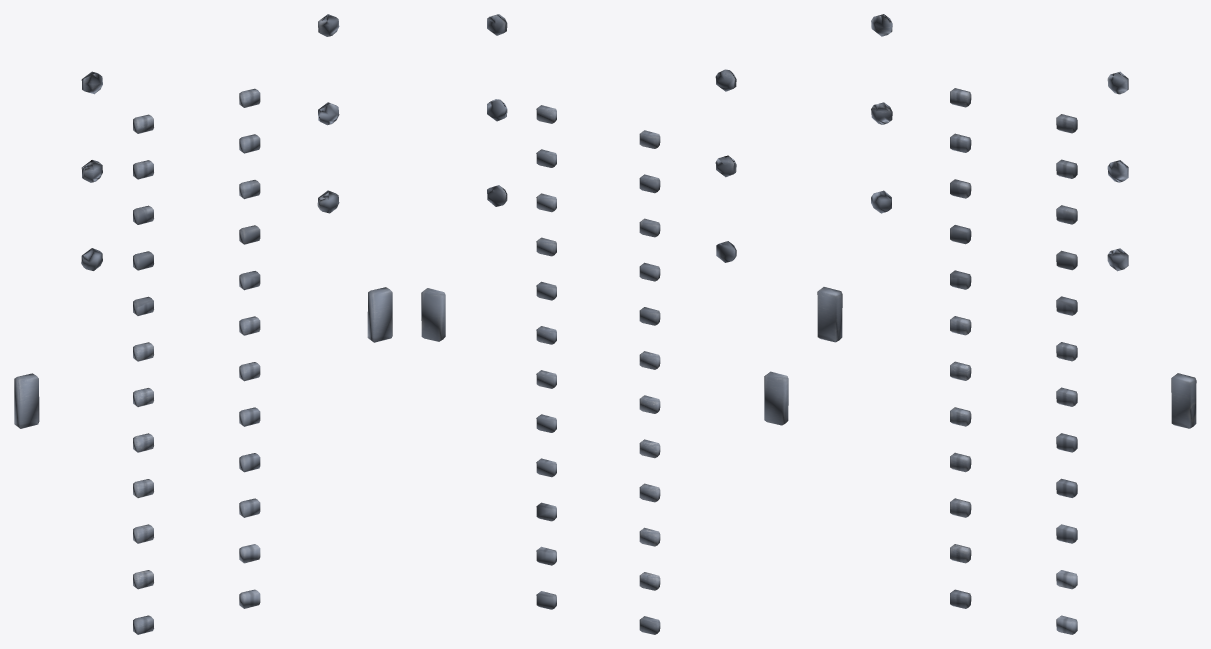
File: Maton_Campera_Acero.fbx
The picture shows the model from 3 angles, left to right: view 1: azimuth 30°, elevation 25°; view 2: azimuth 150°, elevation 25°; view 3: azimuth 330°, elevation 25°; orthographic projection. The views are drawn at different scales.
Parts seen in each view (by area): view 1: Maton_Campera_Acero; view 2: Maton_Campera_Acero; view 3: Maton_Campera_Acero.
Part boxes in pixels (x1=…): Maton_Campera_Acero: x1=14, y1=14, x2=392, y2=634; Maton_Campera_Acero: x1=421, y1=14, x2=788, y2=634; Maton_Campera_Acero: x1=817, y1=14, x2=1196, y2=634.
Bounding box in the file's own units: 1.13 × 1.69 × 0.1013.
